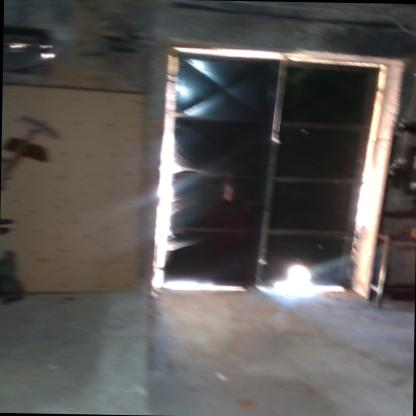closed: (128, 18, 413, 374)
